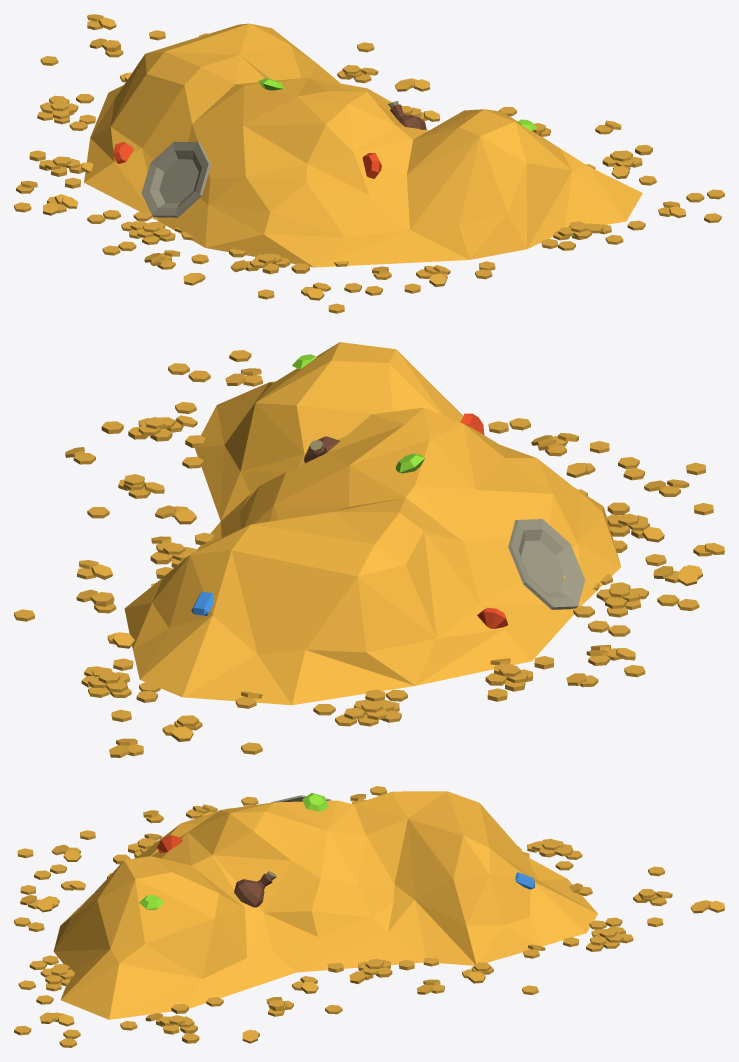
File: TreasurePile_4.fbx
3 renders of one model, top to bottom at view 1: azimuth 30°, elevation 25°; view 2: azimuth 150°, elevation 25°; view 3: azimuth 270°, elevation 25°, orthographic. The views are drawn at different scales.
Parts seen in each view (by area): view 1: TreasurePile_4; view 2: TreasurePile_4; view 3: TreasurePile_4.
Boxes of the visible parts, x1,y1,x2,y2 form: TreasurePile_4: (14, 14, 724, 313); TreasurePile_4: (14, 342, 724, 757); TreasurePile_4: (14, 786, 724, 1047).
Size of the model in its own units: 217 by 38.46 by 251.
